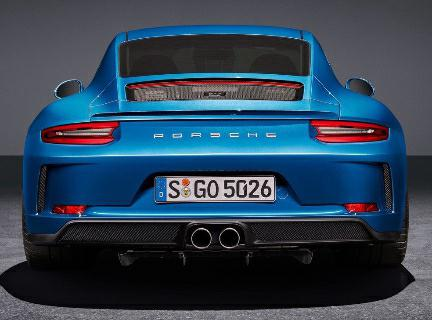保时捷-911: (17, 24, 415, 282)
